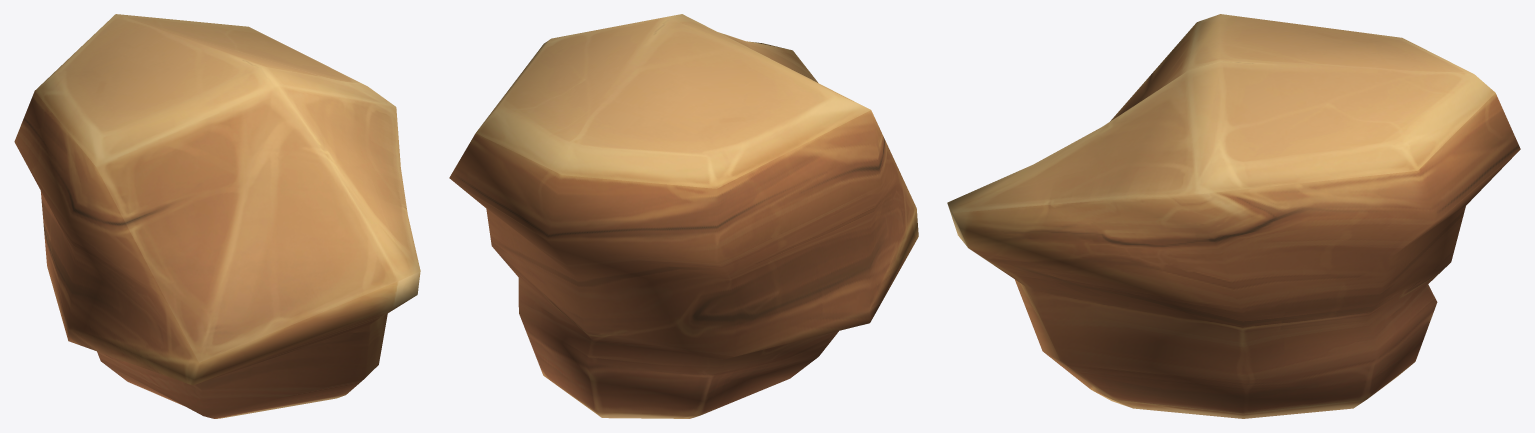
File: DE_Rock_11.fbx
3 renders of one model, left to right at view 1: azimuth 30°, elevation 25°; view 2: azimuth 150°, elevation 25°; view 3: azimuth 270°, elevation 25°, orthographic. The views are drawn at different scales.
Parts seen in each view (by area): view 1: DE_Rock_11; view 2: DE_Rock_11; view 3: DE_Rock_11.
Part boxes in pixels (left/top/right/bottom): DE_Rock_11: left=14, top=14, right=420, bottom=418; DE_Rock_11: left=449, top=14, right=918, bottom=418; DE_Rock_11: left=947, top=14, right=1520, bottom=418.
Size of the model in its own units: 1.9 by 1.76 by 2.67.
